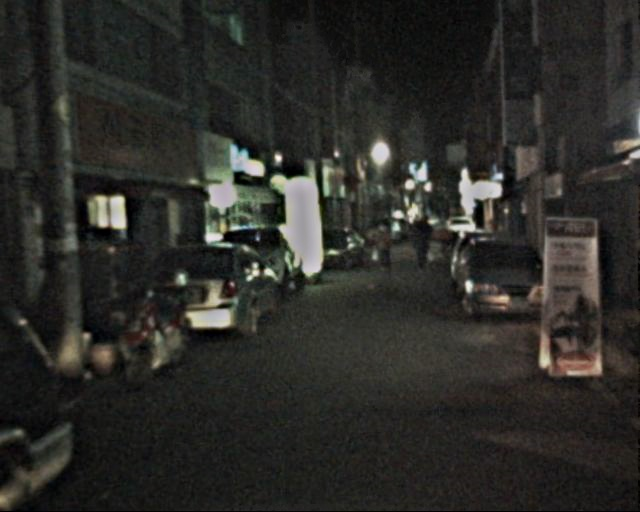person: (375, 219, 400, 281), (413, 217, 436, 273)
